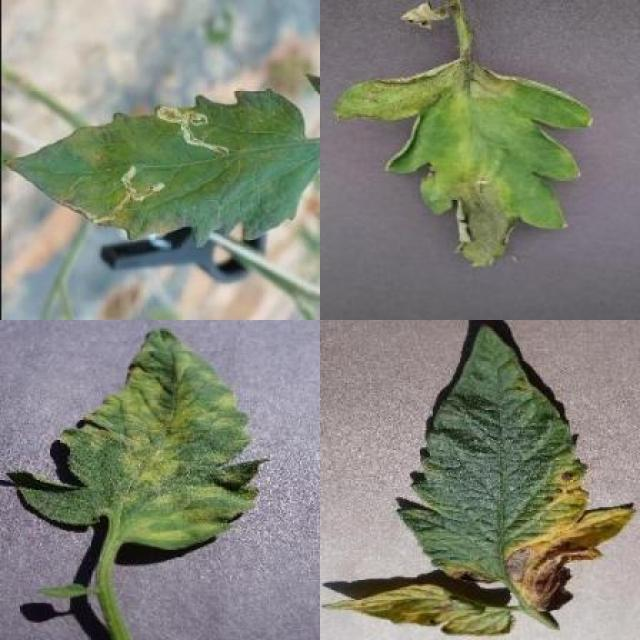Early Blight: (395, 321, 635, 606)
Late Blight: (332, 56, 594, 274)
Leaf Miner: (1, 89, 320, 250)
Leaf Mold: (7, 328, 270, 551)
